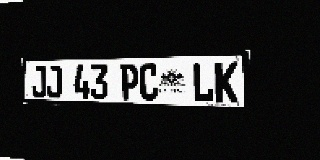3: (90, 64, 108, 99)
4: (74, 65, 90, 99)
C: (139, 63, 158, 101)
J: (46, 65, 61, 98), (31, 66, 46, 98)
K: (215, 62, 238, 103)
L: (192, 62, 214, 102)
P: (120, 64, 139, 100)
